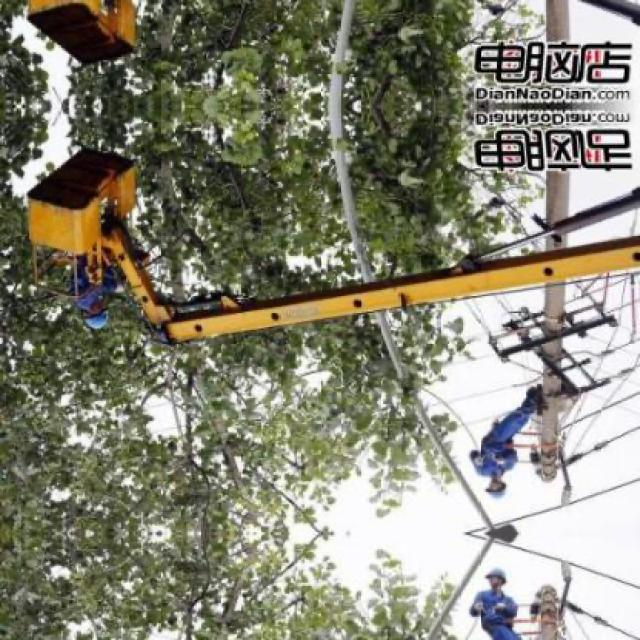con casco: (70, 299, 125, 356)
